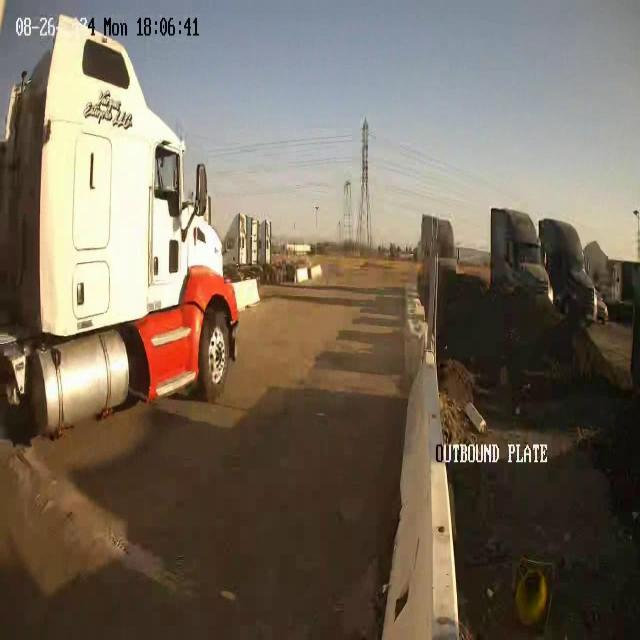TRUCK_IN: (1, 13, 240, 439)
